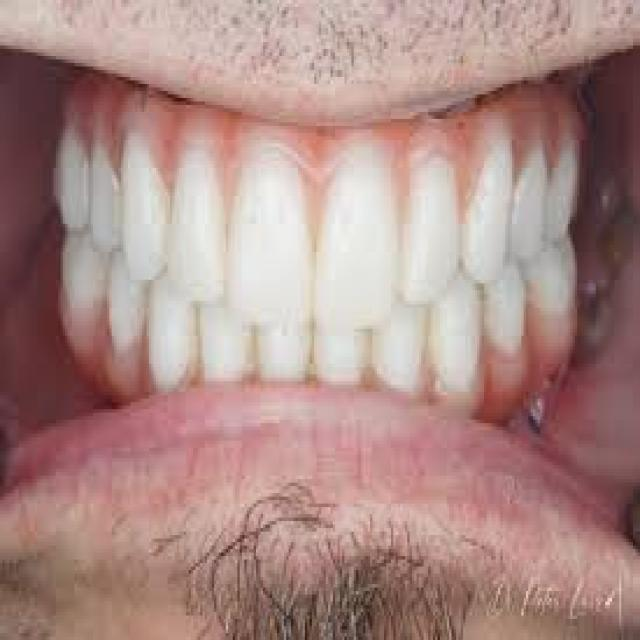tooth: (314, 133, 398, 332), (228, 143, 312, 329), (168, 140, 228, 311), (405, 147, 461, 308), (119, 130, 168, 290), (465, 129, 512, 287), (516, 122, 552, 276), (107, 255, 156, 368), (440, 290, 489, 399), (151, 283, 198, 388), (200, 297, 256, 381), (88, 136, 124, 266), (314, 308, 375, 384), (488, 269, 530, 371), (377, 290, 424, 381), (533, 242, 579, 332), (258, 304, 310, 378)
